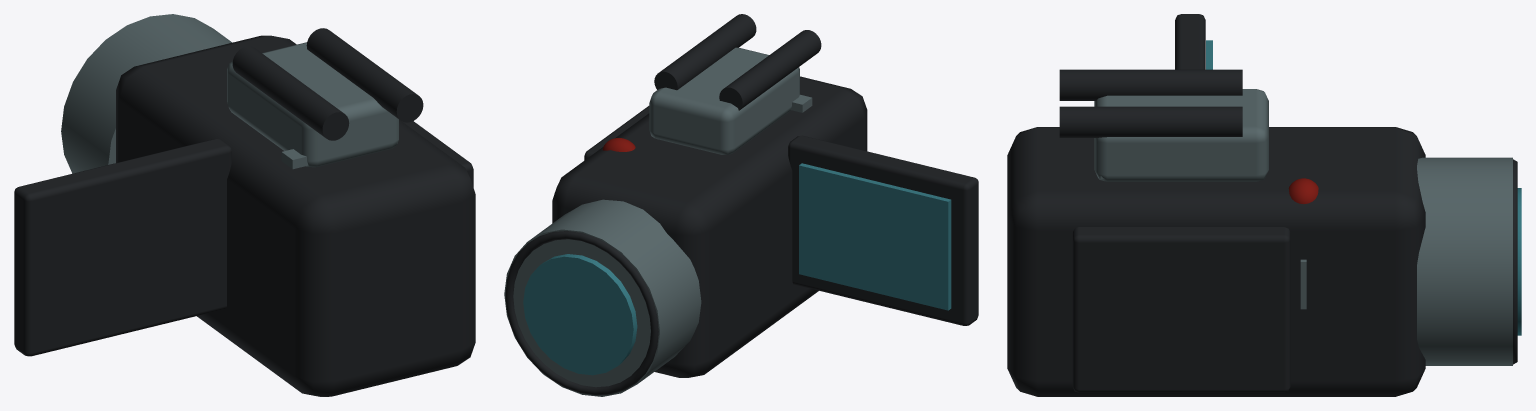
The model's file is Camcorder.obj.
3 views of the same model, side by side, from view 1: azimuth 30°, elevation 25°; view 2: azimuth 150°, elevation 25°; view 3: azimuth 270°, elevation 25° (orthographic). The views are drawn at different scales.
Visible parts, largest first — view 1: Camcorder; view 2: Camcorder; view 3: Camcorder.
Part boxes in pixels (x1,y1,x2,y2): Camcorder: [14, 14, 475, 396]; Camcorder: [504, 14, 978, 396]; Camcorder: [1007, 14, 1521, 396].
Size of the model in its own units: 0.5375 by 0.348 by 0.59.
